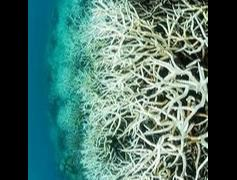bleached_corals: (50, 0, 208, 180), (84, 0, 208, 180)
